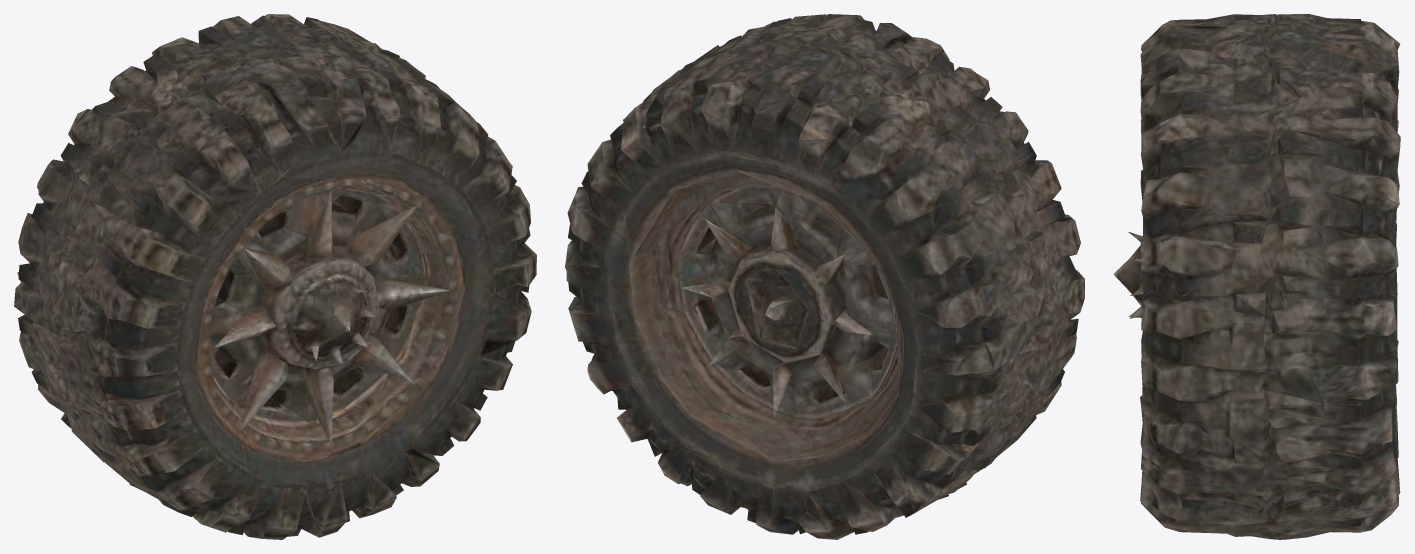
The model's file is hellcat-wheel.glb.
3 renders of one model, left to right at view 1: azimuth 30°, elevation 25°; view 2: azimuth 150°, elevation 25°; view 3: azimuth 270°, elevation 25°, orthographic. The views are drawn at different scales.
Visible parts, largest first — view 1: Mesh_0; view 2: Mesh_0; view 3: Mesh_0.
Boxes of the visible parts, left/top/right/bottom form: Mesh_0: left=14, top=14, right=536, bottom=539; Mesh_0: left=565, top=14, right=1084, bottom=539; Mesh_0: left=1113, top=14, right=1400, bottom=539.
Bounding box in the file's own units: 1.89 × 1.9 × 1.03.
Materials: 1 (1 with a texture image).
